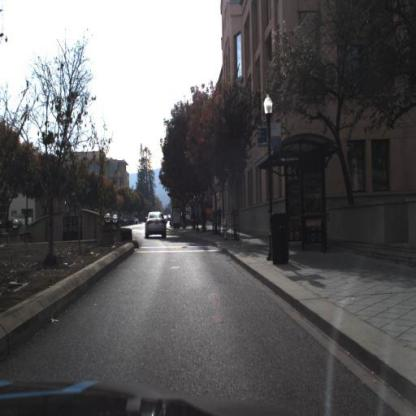car: (146, 209, 169, 240)
pedestrian: (216, 205, 225, 236)
